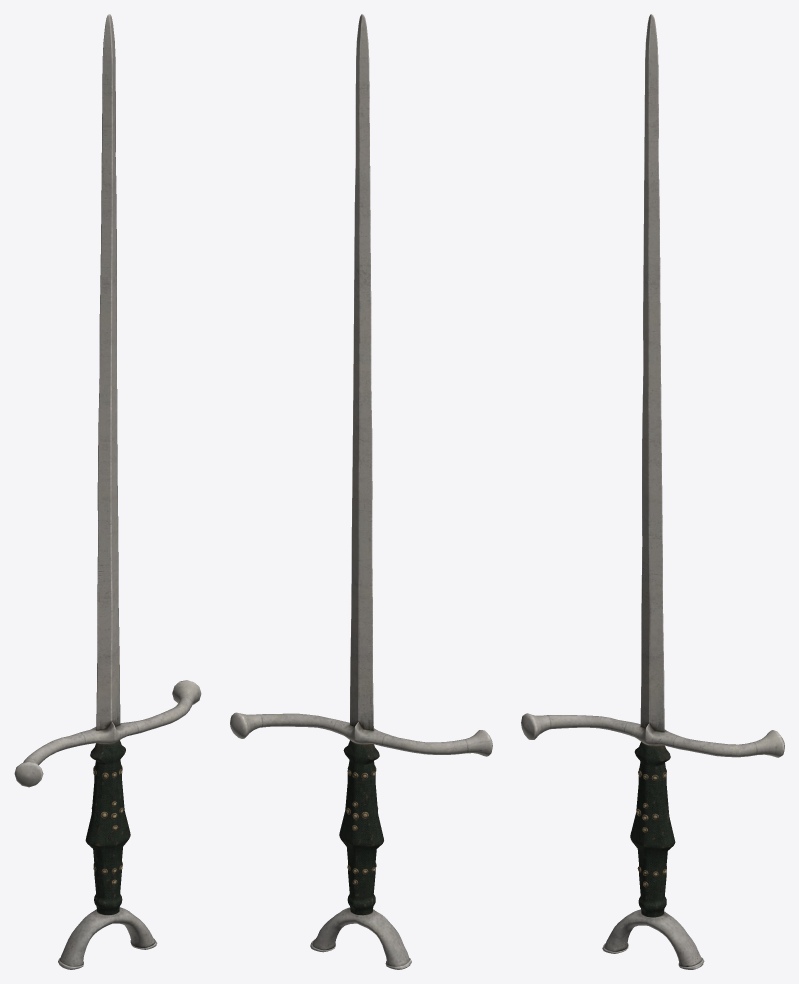
File: sword_estoc.glb
3 renders of one model, left to right at view 1: azimuth 30°, elevation 25°; view 2: azimuth 150°, elevation 25°; view 3: azimuth 330°, elevation 25°, orthographic.
Visible parts, largest first — view 1: antique_estoc; view 2: antique_estoc; view 3: antique_estoc.
Part boxes in pixels (x1,y1,x2,y2): antique_estoc: (14,14,201,969); antique_estoc: (230,14,492,969); antique_estoc: (521,14,784,969).
Bounding box in the file's own units: 0.3715 × 1.49 × 0.1491.
1 material, 1 textured.
